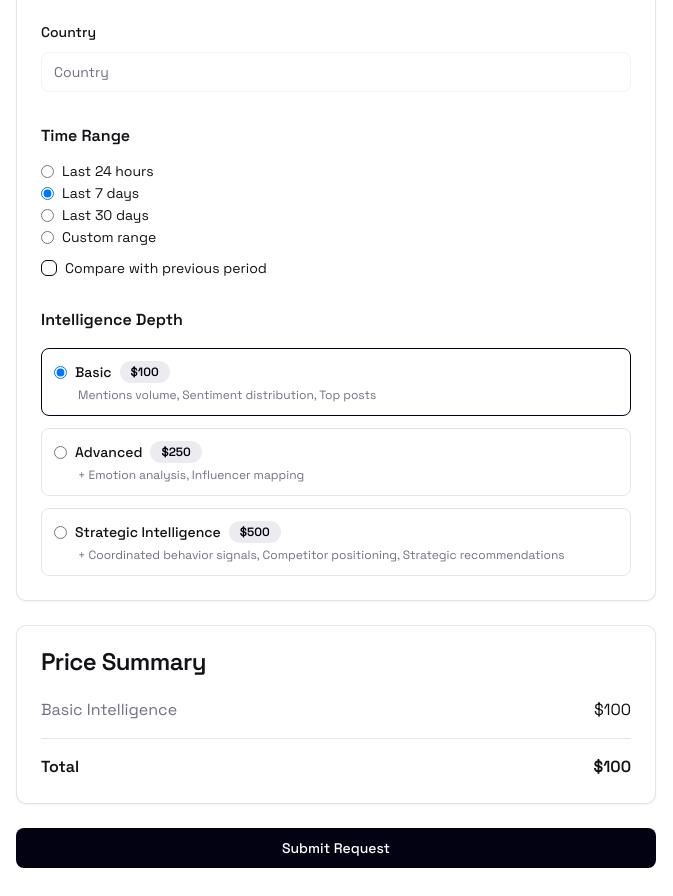
Test: request form page › validates required fields and submits form request
Later steps or results of the test are not shown.
(page scrolled)
Submit without filling required fields — should show validation errors
What coordinates should you click on to do the following:
click the button "Submit Request"
I would click on:
 (336, 848)
Its box is [16, 828, 656, 868].
(page scrolled)
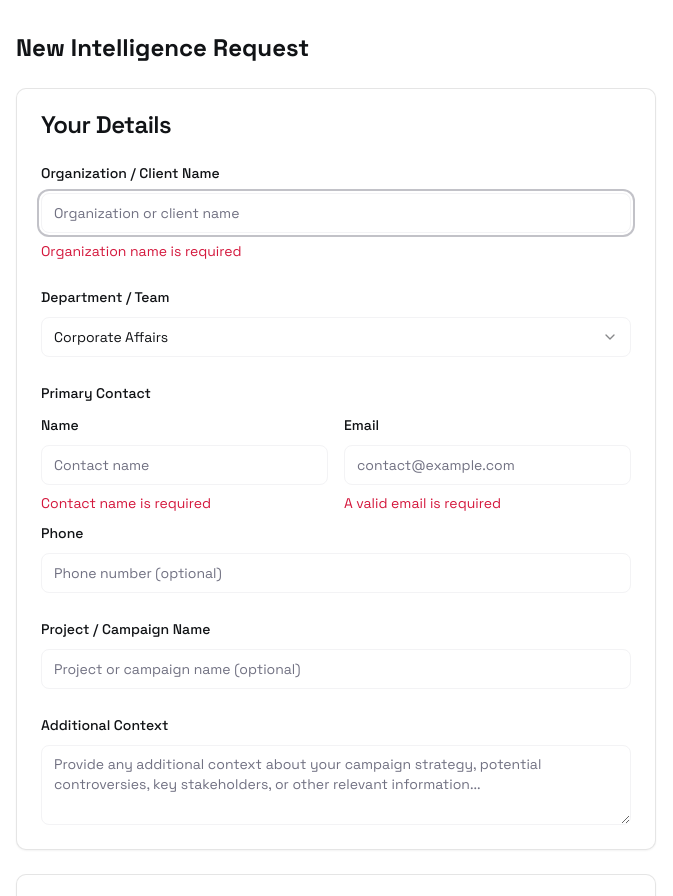
Check: the text "Organization name is required" is shown, box [41, 242, 242, 260]
